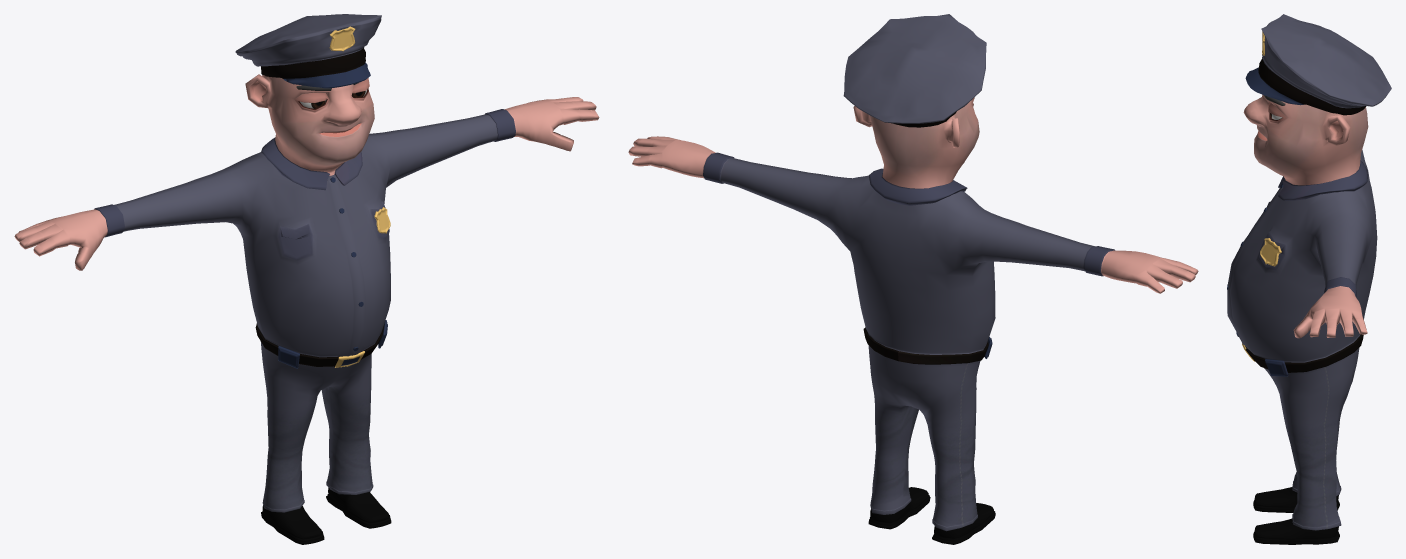
Rendered from 15_bob_police_m_05.glb.
3 views of the same model, side by side, from view 1: azimuth 30°, elevation 25°; view 2: azimuth 150°, elevation 25°; view 3: azimuth 270°, elevation 25° (orthographic). The views are drawn at different scales.
Visible parts, largest first — view 1: cuerpo, hat, zapas; view 2: cuerpo, hat, zapas; view 3: cuerpo, hat, zapas, escudo2.
Part boxes in pixels (bbox=[...]): cuerpo: bbox=[14, 74, 599, 512]; hat: bbox=[235, 14, 381, 88]; zapas: bbox=[261, 487, 391, 544]; cuerpo: bbox=[628, 97, 1198, 531]; hat: bbox=[843, 14, 986, 127]; zapas: bbox=[868, 487, 995, 544]; cuerpo: bbox=[1227, 94, 1377, 530]; hat: bbox=[1245, 14, 1391, 115]; zapas: bbox=[1253, 487, 1339, 544]; escudo2: bbox=[1260, 238, 1281, 266].
Size of the model in its own units: 1.21 by 1.02 by 0.3104.
Materials: 6 (1 with a texture image).
